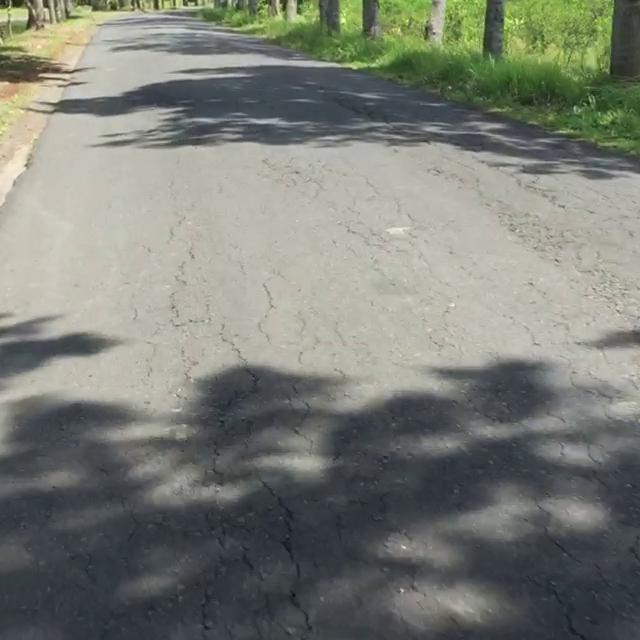retak_kulit_buaya: (127, 228, 340, 640)
